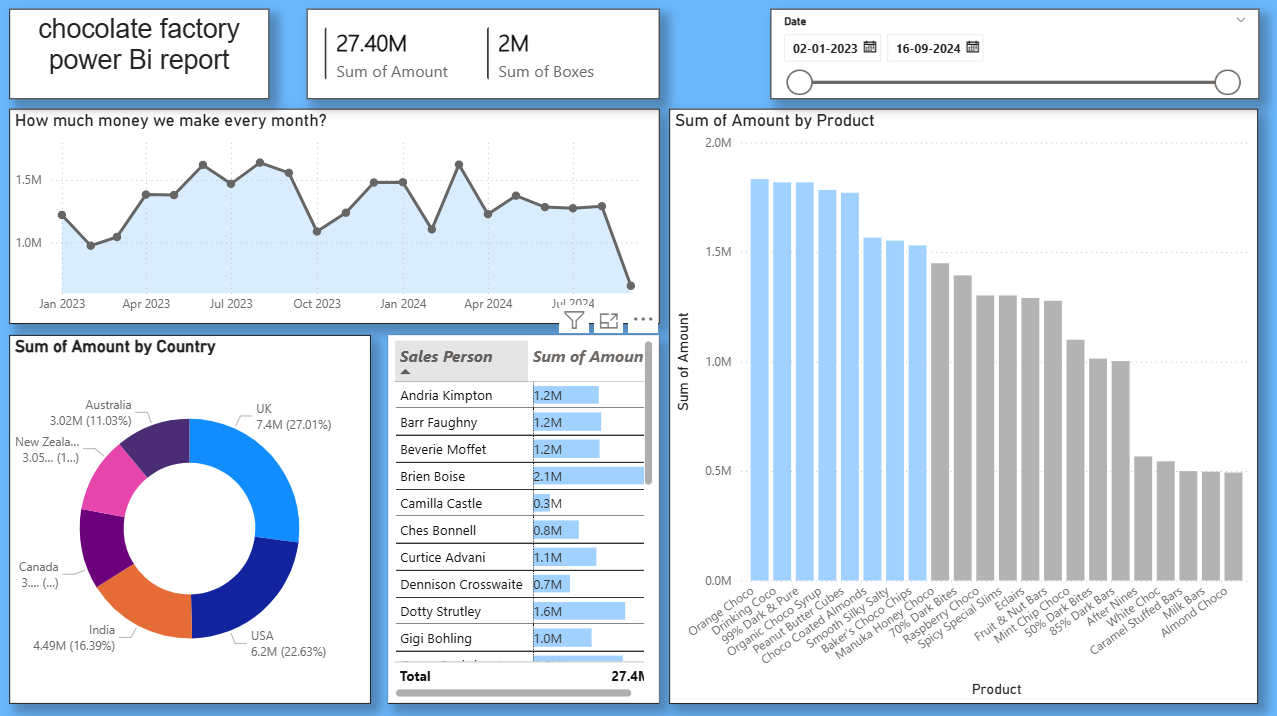

This screenshot's page, from the dashboard's own definition file:
{"tool":"powerbi","page":{"name":"Page 1","canvas":[1280,720],"ordinal":0},"visuals":[{"type":"lineChart","title":"How much money we make every month?","fields":{"Y":["Sum(data.Amount)"],"Category":["data.Date.Variation.Date Hierarchy.Year","data.Date.Variation.Date Hierarchy.Quarter","data.Date.Variation.Date Hierarchy.Month","data.Date.Variation.Date Hierarchy.Day"]},"box":[11.2,108.8,650,215],"z":0},{"type":"donutChart","fields":{"Y":["Sum(data.Amount)"],"Category":["data.Country"]},"box":[11.2,335,361.2,368.8],"z":1000},{"type":"tableEx","fields":{"Values":["data.Sales Person","Sum(data.Amount)"]},"box":[390,335,271.2,368.8],"z":2000},{"type":"clusteredColumnChart","fields":{"Category":["data.Product"],"Y":["Sum(data.Amount)"]},"box":[671.2,108.8,588.8,595],"z":3000},{"type":"cardVisual","fields":{"Data":["Sum(data.Amount)","Sum(data.Boxes)"]},"box":[308.8,8.8,352.5,90],"z":4000},{"type":"slicer","fields":{"Values":["data.Date"]},"box":[772.5,8.8,488.8,90],"z":5000},{"type":"textbox","box":[11.2,8.8,260,90],"z":6000}]}

Visuals, with their boxes in screenshot pixels (x1, y1, x2, y2), scaled from the page's 1280x720 canvas onto the 1277x716 screenshot:
"How much money we make every month?" lineChart: l=11, t=108, r=660, b=322
donutChart - Sum(data.Amount) x data.Country: l=11, t=333, r=372, b=700
tableEx - data.Sales Person x Sum(data.Amount): l=389, t=333, r=660, b=700
clusteredColumnChart - data.Product x Sum(data.Amount): l=670, t=108, r=1257, b=700
cardVisual - Sum(data.Amount) x Sum(data.Boxes): l=308, t=9, r=660, b=98
slicer - data.Date: l=771, t=9, r=1258, b=98
textbox: l=11, t=9, r=271, b=98
